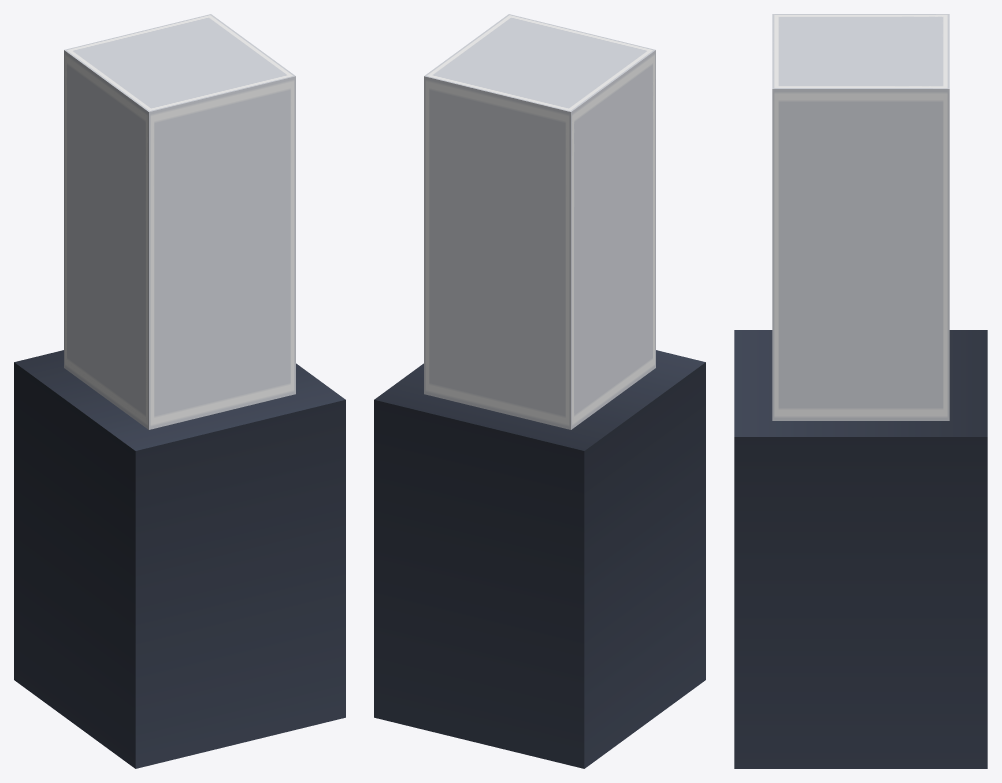
File: PRP_Statue.glb
The picture shows the model from 3 angles, left to right: view 1: azimuth 30°, elevation 25°; view 2: azimuth 150°, elevation 25°; view 3: azimuth 270°, elevation 25°; orthographic projection. The views are drawn at different scales.
Parts seen in each view (by area): view 1: PRP_Statue; view 2: PRP_Statue; view 3: PRP_Statue.
Part boxes in pixels (left/top/right/bottom): PRP_Statue: left=14, top=14, right=345, bottom=768; PRP_Statue: left=374, top=14, right=705, bottom=768; PRP_Statue: left=734, top=14, right=987, bottom=768.
Size of the model in its own units: 0.9 by 2.6 by 0.9.
1 material, 1 textured.
